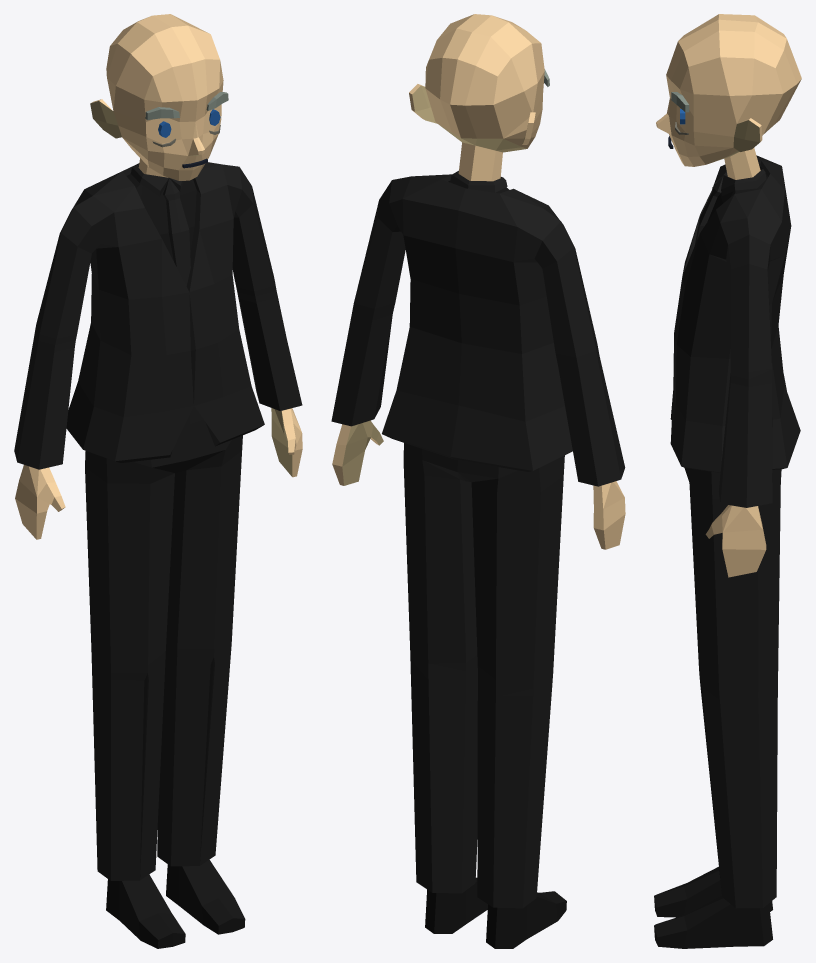
The model's file is Low_Poly_Old_Man_On_Suit.glb.
3 views of the same model, side by side, from view 1: azimuth 30°, elevation 25°; view 2: azimuth 150°, elevation 25°; view 3: azimuth 270°, elevation 25° (orthographic).
Parts seen in each view (by area): view 1: unnamed (×2); view 2: unnamed; view 3: unnamed (×2).
Boxes of the visible parts, x1,y1,x2,y2 form: unnamed (×2): [14, 14, 302, 948]; unnamed: [331, 14, 625, 948]; unnamed (×2): [654, 14, 801, 948].
Bounding box in the file's own units: 0.6608 × 2 × 0.2956.
1 material, 1 textured.
